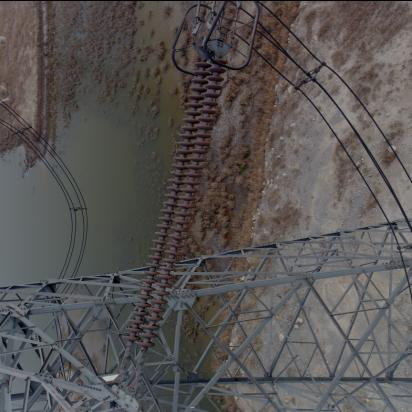insulator: (122, 50, 230, 372)
